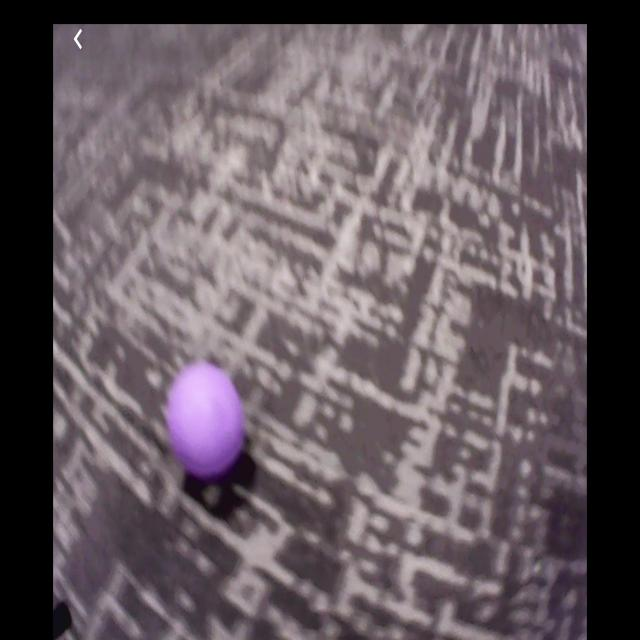ball: (168, 364, 245, 479)
